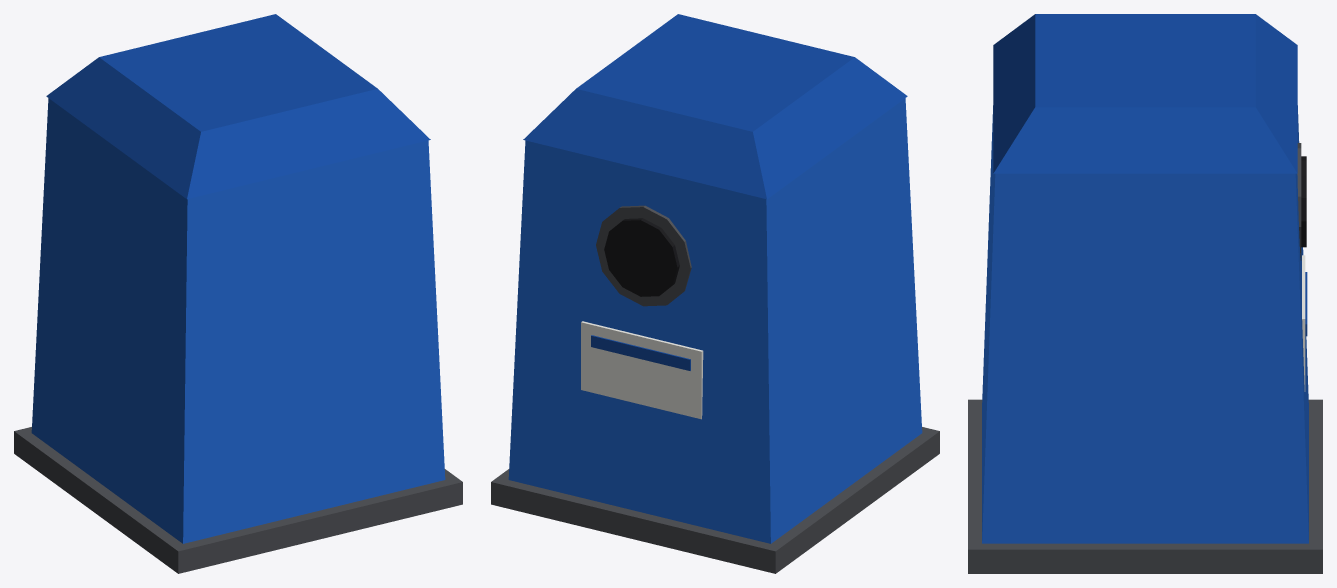
File: Ecoponto_Blue.fbx
The picture shows the model from 3 angles, left to right: view 1: azimuth 30°, elevation 25°; view 2: azimuth 150°, elevation 25°; view 3: azimuth 270°, elevation 25°; orthographic projection. The views are drawn at different scales.
Parts seen in each view (by area): view 1: Ecoponto_Blue; view 2: Ecoponto_Blue; view 3: Ecoponto_Blue.
Boxes of the visible parts, x1,y1,x2,y2 form: Ecoponto_Blue: (14,14,462,573); Ecoponto_Blue: (491,14,939,573); Ecoponto_Blue: (968,14,1322,573).
Bounding box in the file's own units: 1.32 × 1.8 × 1.32.
